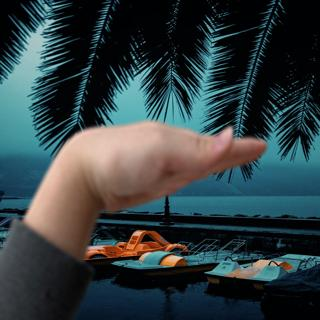Wait: (35, 112, 271, 225)
